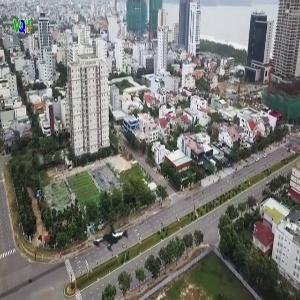drone: (53, 177, 156, 280)
